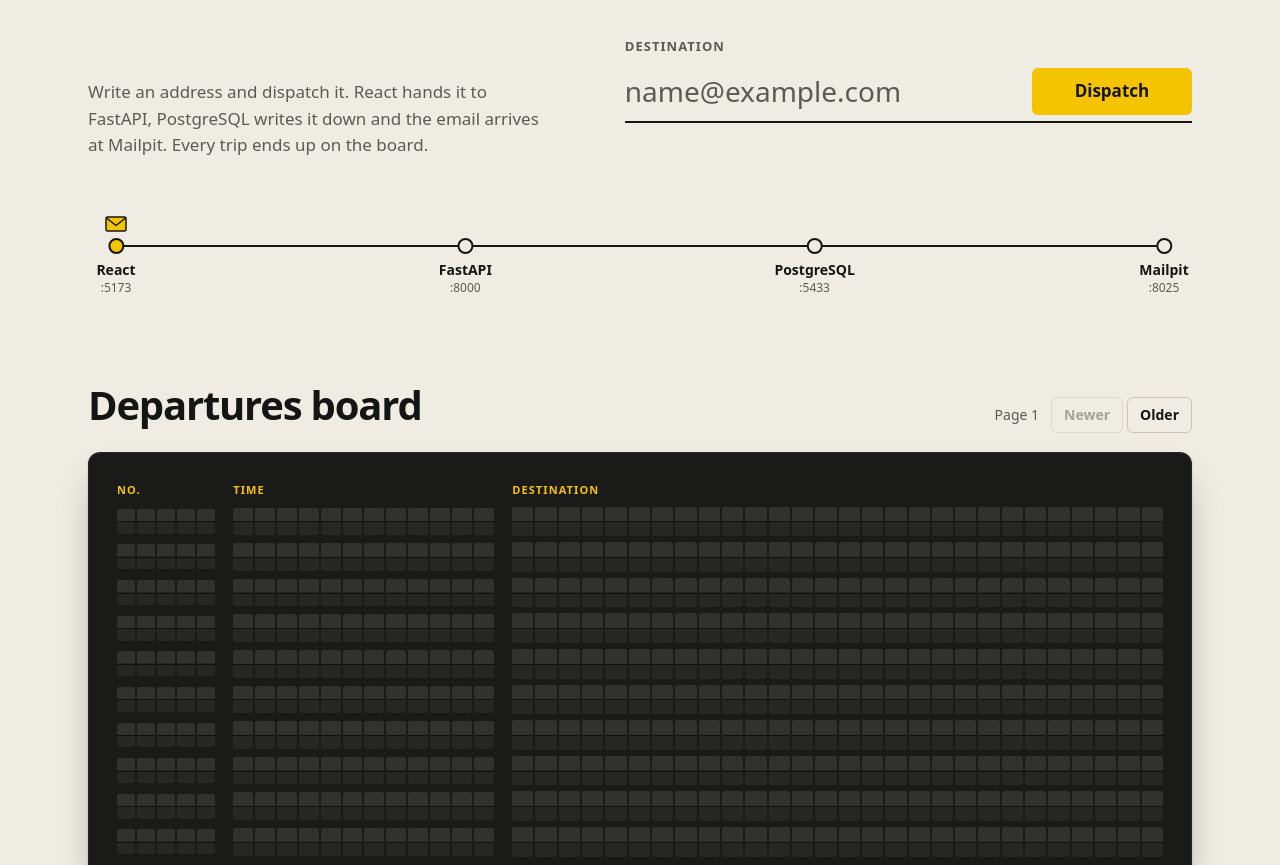
Scenario: HomePage board › "Try again" asks again for the page that failed
The image size is (1280, 865).
(page scrolled)
Click the button "Older": (1160, 415) [1127, 397, 1192, 433]
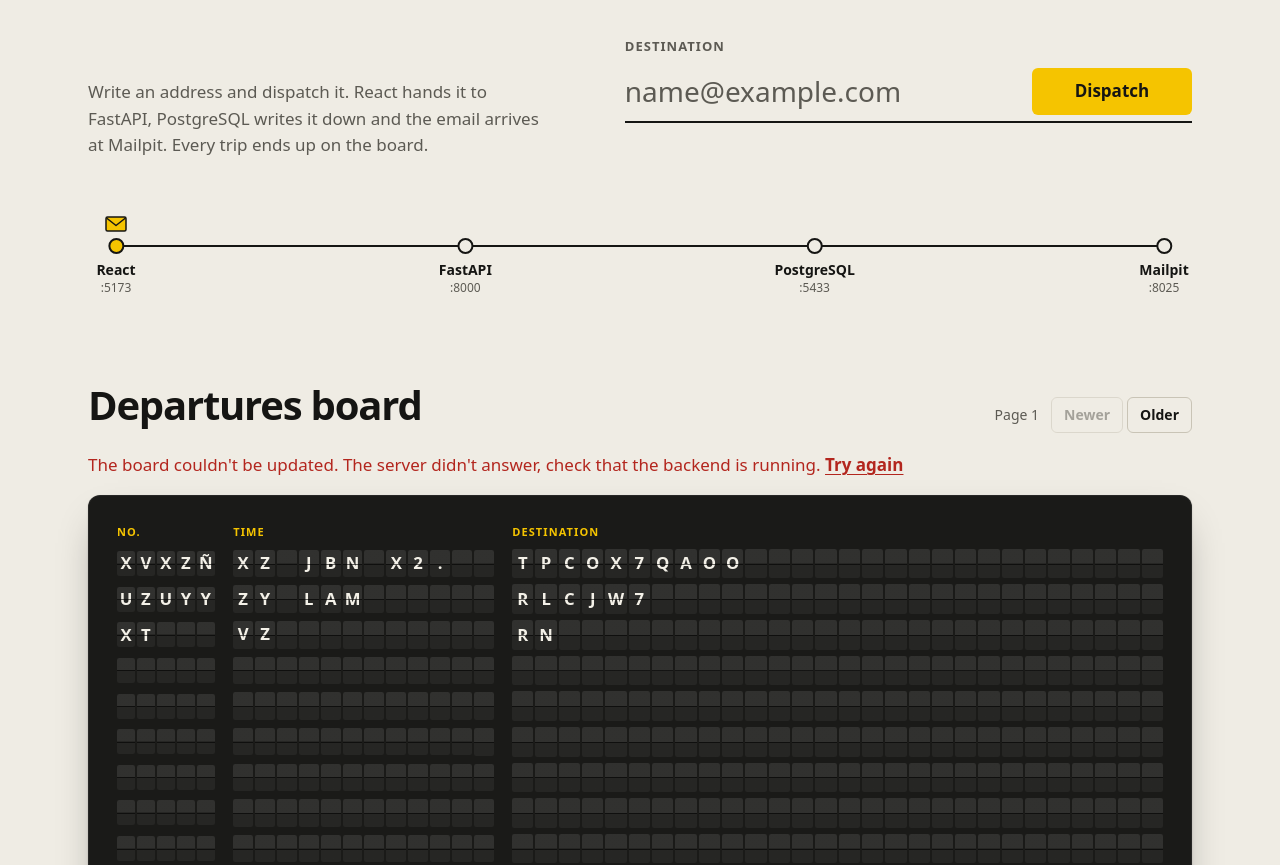
Click the button "Try again": (864, 466) [825, 452, 904, 479]
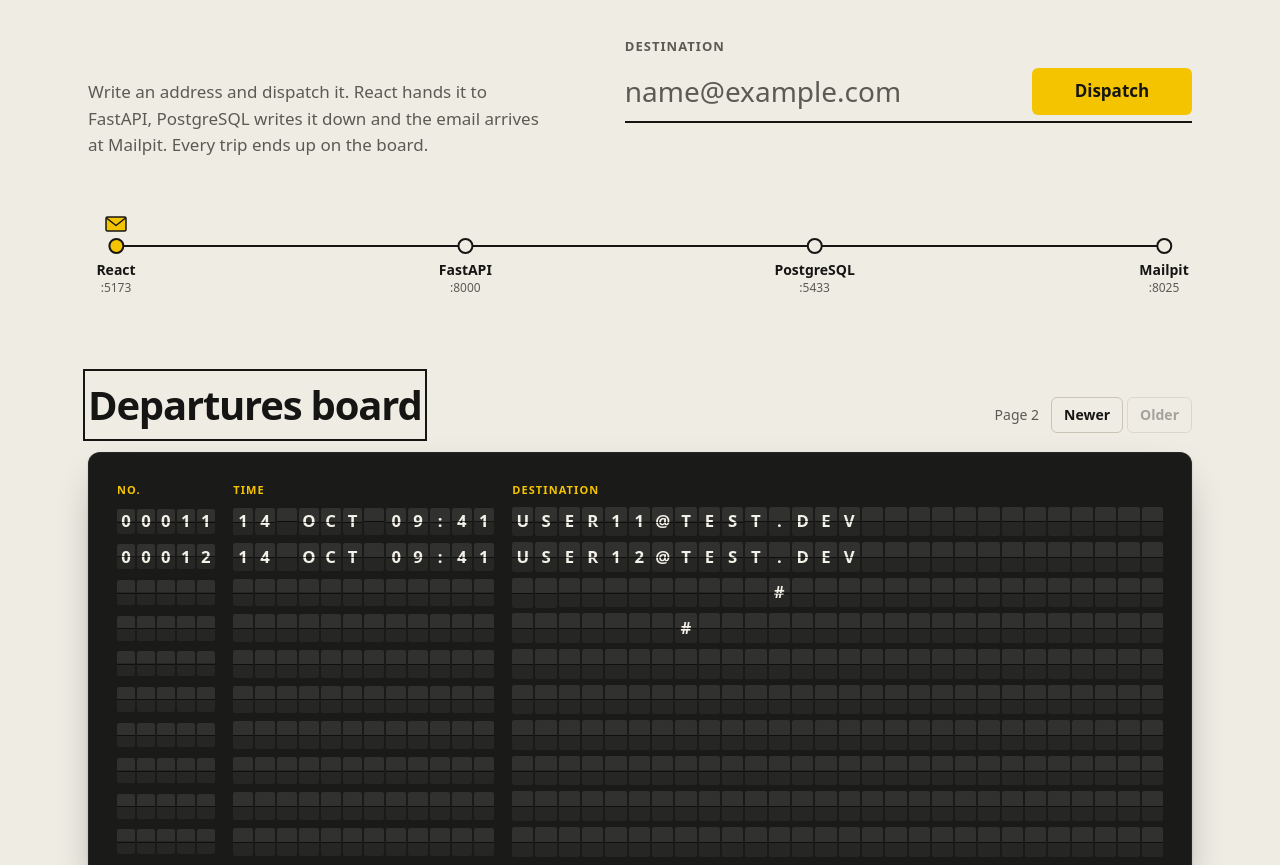
Result: the text "Page 2" is shown at [995, 404, 1039, 426]
Result: the message "The board couldn't be updated. The server didn't answer, check that the backend" is gone
